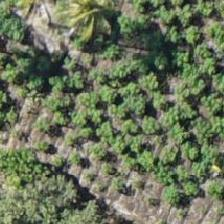coconut_tree: (57, 0, 147, 58)
